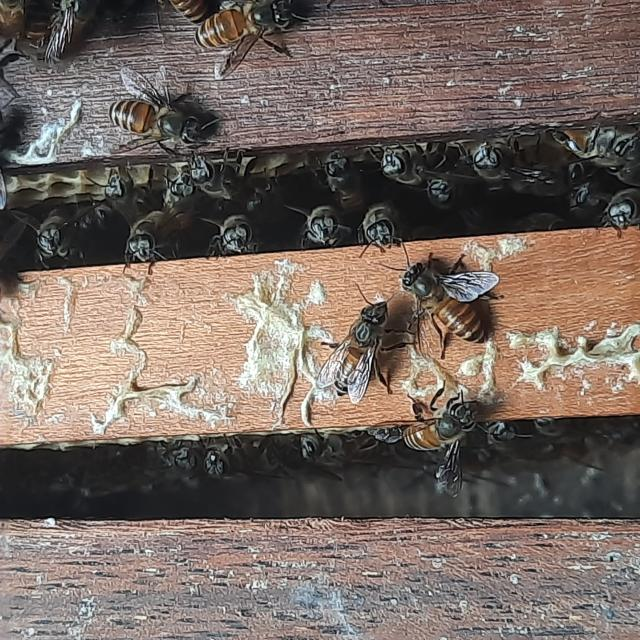honeybee: (98, 62, 222, 160), (311, 282, 389, 402), (387, 392, 483, 486), (399, 253, 493, 349), (195, 0, 307, 61), (24, 203, 94, 277), (367, 139, 440, 194), (122, 210, 181, 278), (289, 436, 375, 479), (167, 162, 231, 215), (297, 199, 348, 262), (212, 216, 263, 271), (193, 424, 238, 486), (42, 0, 83, 63), (463, 130, 509, 184), (314, 139, 356, 198), (550, 119, 604, 162), (160, 0, 220, 38), (592, 187, 640, 232), (356, 200, 398, 249), (418, 171, 462, 211), (537, 408, 573, 448), (488, 422, 524, 461), (0, 0, 29, 42)
